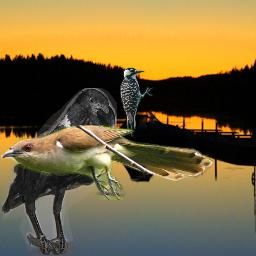Crow: (2, 88, 117, 256)
Cuckoo: (1, 125, 214, 200)
Woodpecker: (119, 67, 154, 137)
